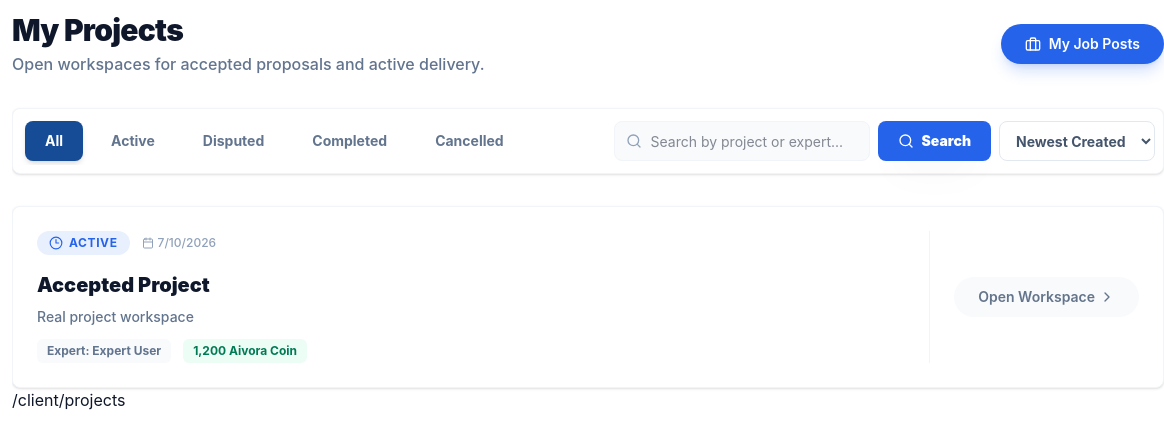
Test: ClientProjectsPage › renders only projects returned by the project hook and opens workspaces by project ID
Expected: the link "Accepted Project" is shown, [37, 271, 210, 299]
Click the link "Open Workspace": (1047, 297) [954, 277, 1139, 317]
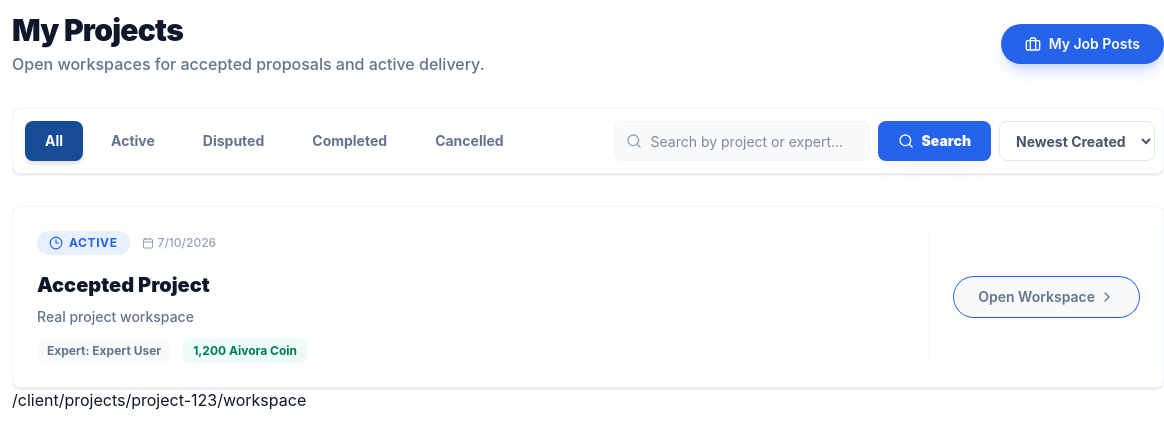
Now the text named "current path" reads "/client/projects/project-123/workspace", box [12, 390, 306, 410]
